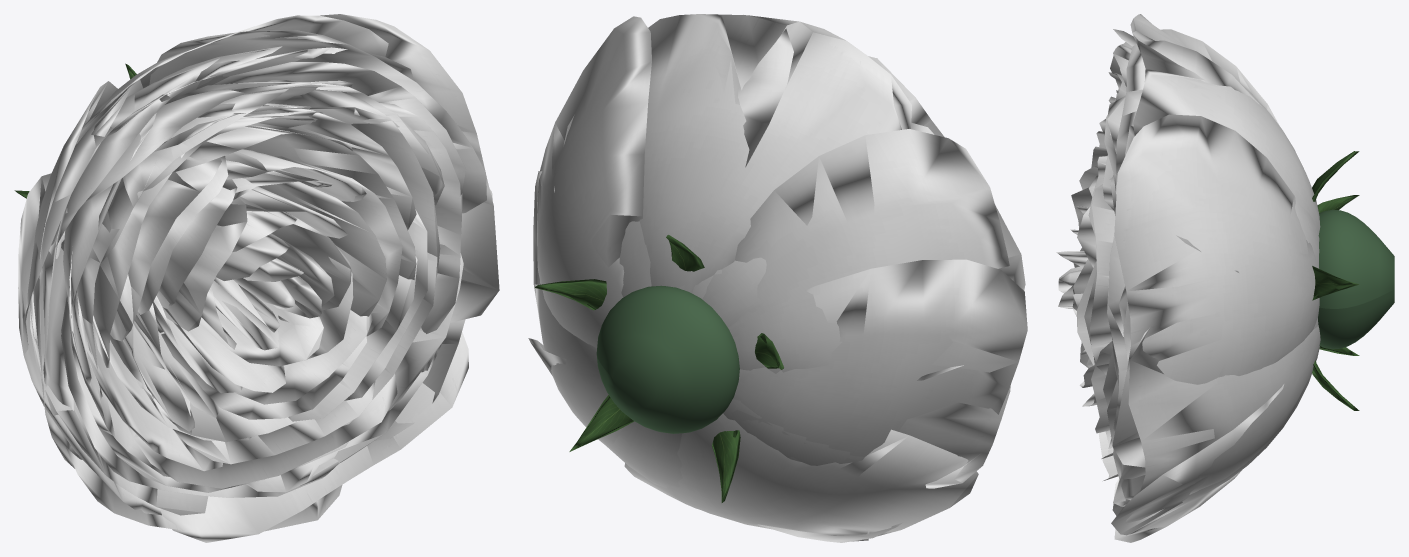
Rendered from rose-4.glb.
3 renders of one model, left to right at view 1: azimuth 30°, elevation 25°; view 2: azimuth 150°, elevation 25°; view 3: azimuth 270°, elevation 25°, orthographic. The views are drawn at different scales.
Visible parts, largest first — view 1: Rose_4_balanced_Petals; view 2: Rose_4_balanced_Petals, Rose_4_balanced_Receptacle, Rose_4_balanced_Sepals; view 3: Rose_4_balanced_Petals, Rose_4_balanced_Receptacle, Rose_4_balanced_Sepals.
Boxes of the visible parts, <box> form: Rose_4_balanced_Petals: <box>18,14,499,542</box>; Rose_4_balanced_Petals: <box>528,14,1027,542</box>; Rose_4_balanced_Receptacle: <box>596,285,739,433</box>; Rose_4_balanced_Sepals: <box>534,235,783,502</box>; Rose_4_balanced_Petals: <box>1056,14,1320,542</box>; Rose_4_balanced_Receptacle: <box>1318,209,1394,349</box>; Rose_4_balanced_Sepals: <box>1312,151,1359,410</box>.
Bounding box in the file's own units: 0.7816 × 0.7843 × 0.5084.
3 materials, 2 textured.
